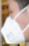with_mask: (1, 2, 29, 46)
